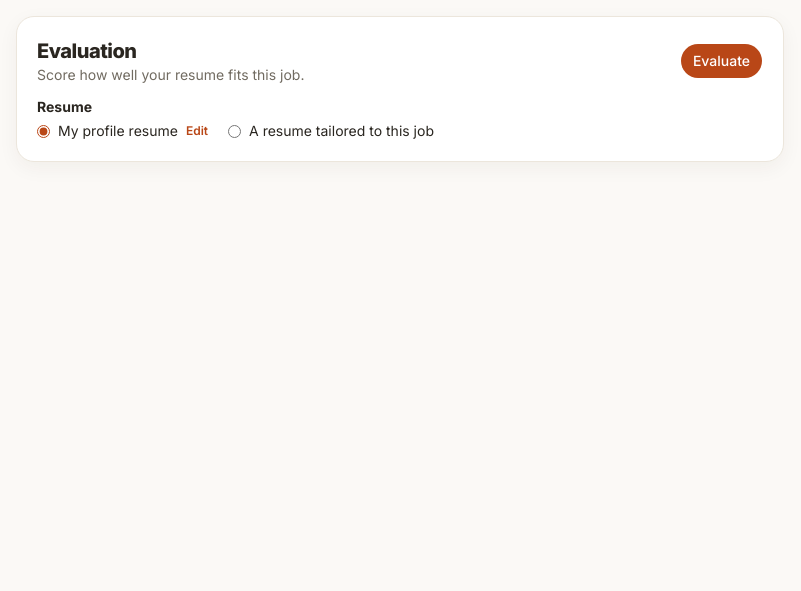
Test case: JobEvaluationPanel › evaluates with the profile resume by default and shows the result
Expected: the radio button labelled "My profile resume" is checked, left=37, top=124, right=50, bottom=138
Step 1. Click the button "Evaluate" → (721, 61), box left=680, top=43, right=763, bottom=79
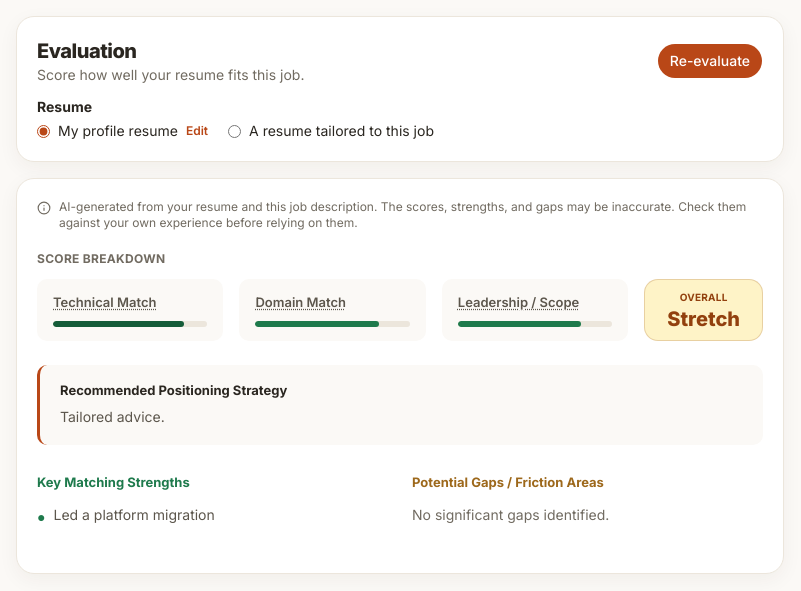
Expected: the button "Re-evaluate" is enabled, left=657, top=43, right=763, bottom=79
Expected: the text "Stretch" is shown, left=667, top=309, right=740, bottom=329
Expected: the text "Tailored advice." is shown, left=60, top=408, right=165, bottom=425
